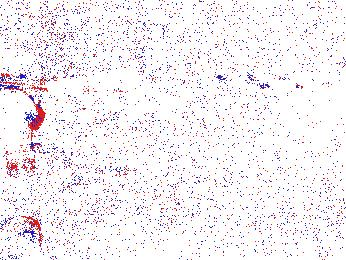flame jellyfish: (1, 86, 44, 178), (186, 195, 240, 249), (1, 215, 50, 260)
